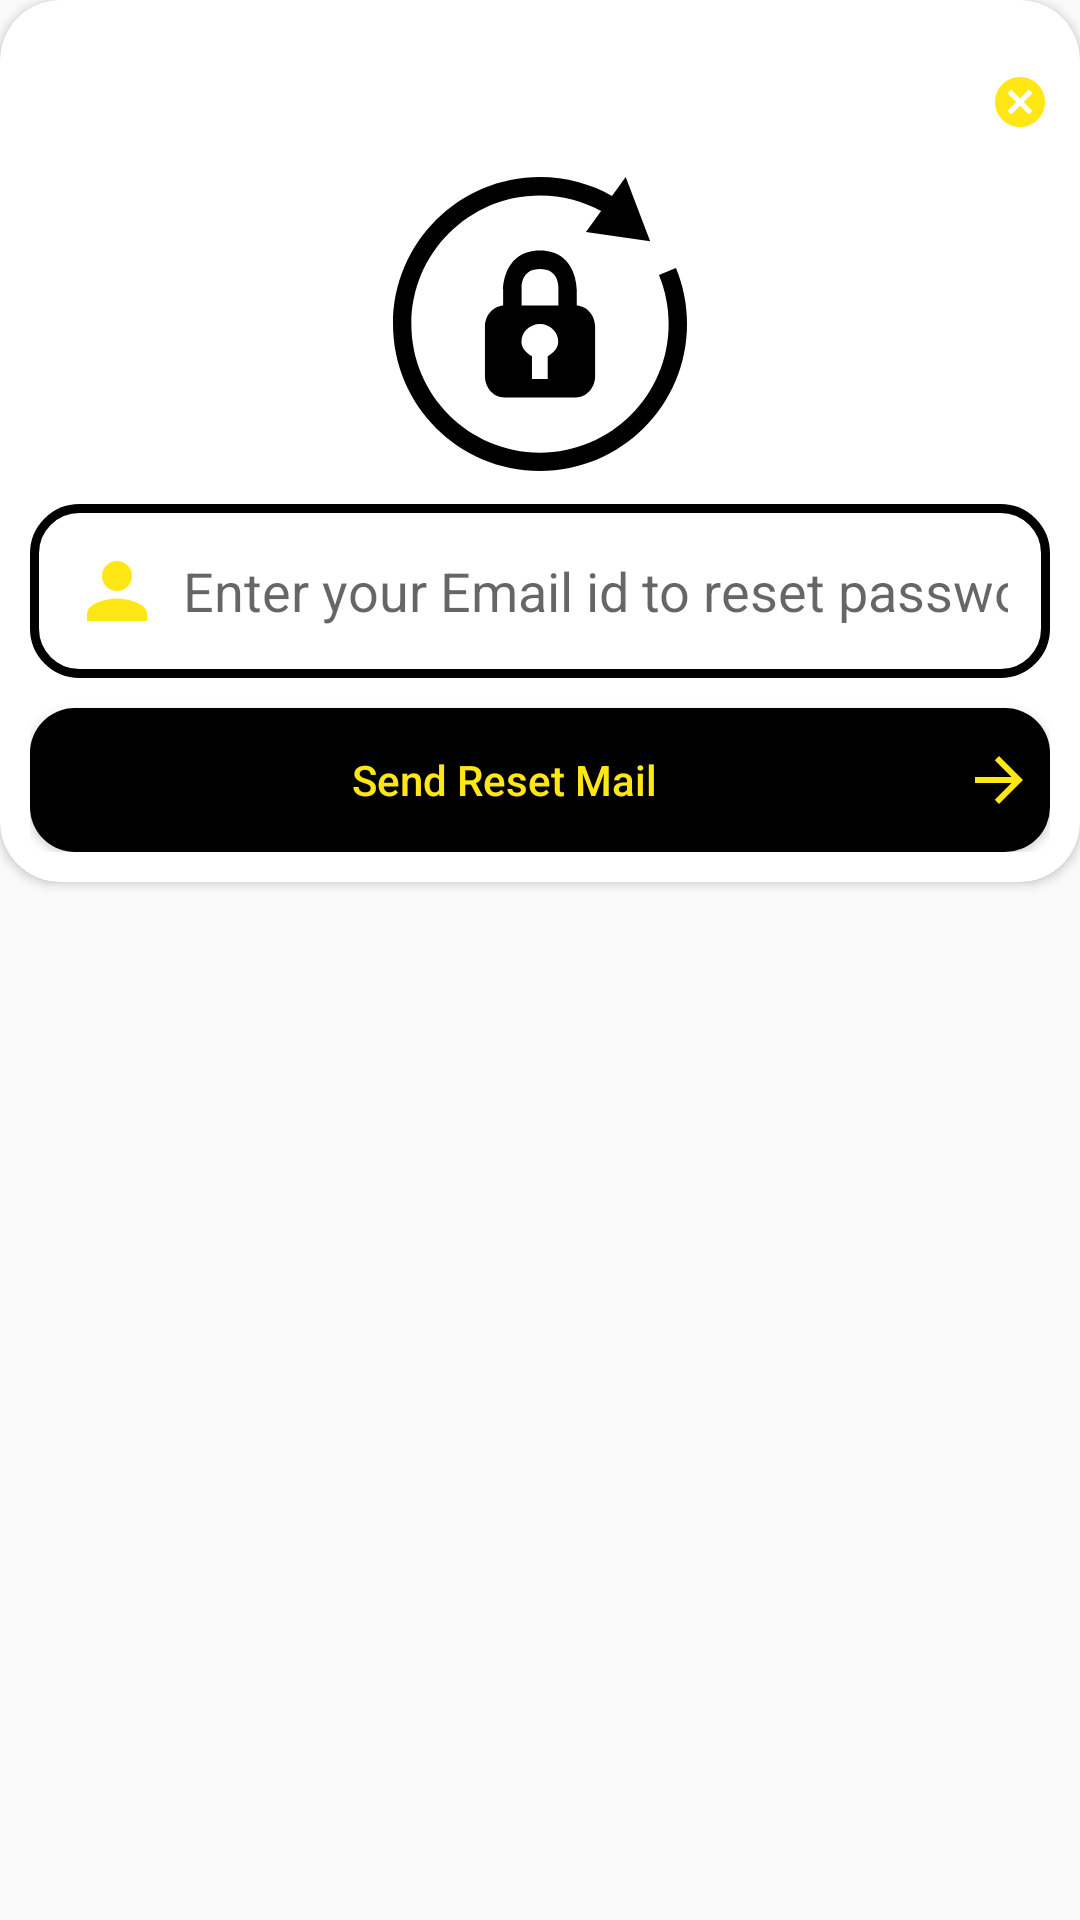

Screen size 1080 × 1920. Icon name, then its center in pixels as (x,y):
forgetpass: (540,324)
